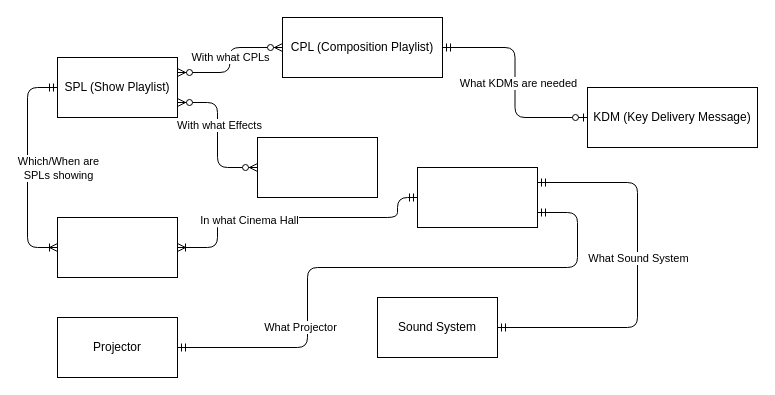
The diagram is 775 pixels wide and 395 high, and some of its shapes have lost their labels. Here are the shapes that lost their labels. From the top down, the box of each, then its label:
(256, 136, 378, 198): Effect
(416, 166, 538, 228): Cinema Hall
(56, 216, 178, 278): Showing
